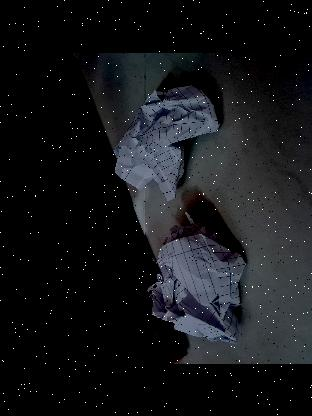Others: (115, 80, 221, 194), (150, 218, 244, 340)
